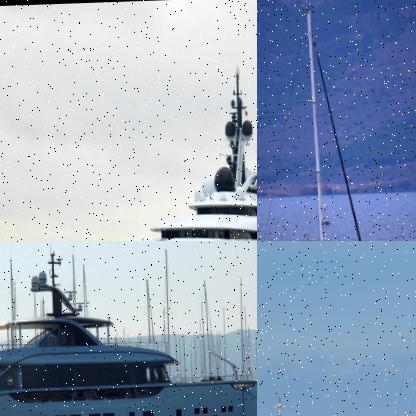Sails Boat: (257, 0, 396, 240), (363, 241, 415, 415)
Yacht: (0, 243, 256, 415), (24, 62, 256, 240), (257, 396, 295, 415)
